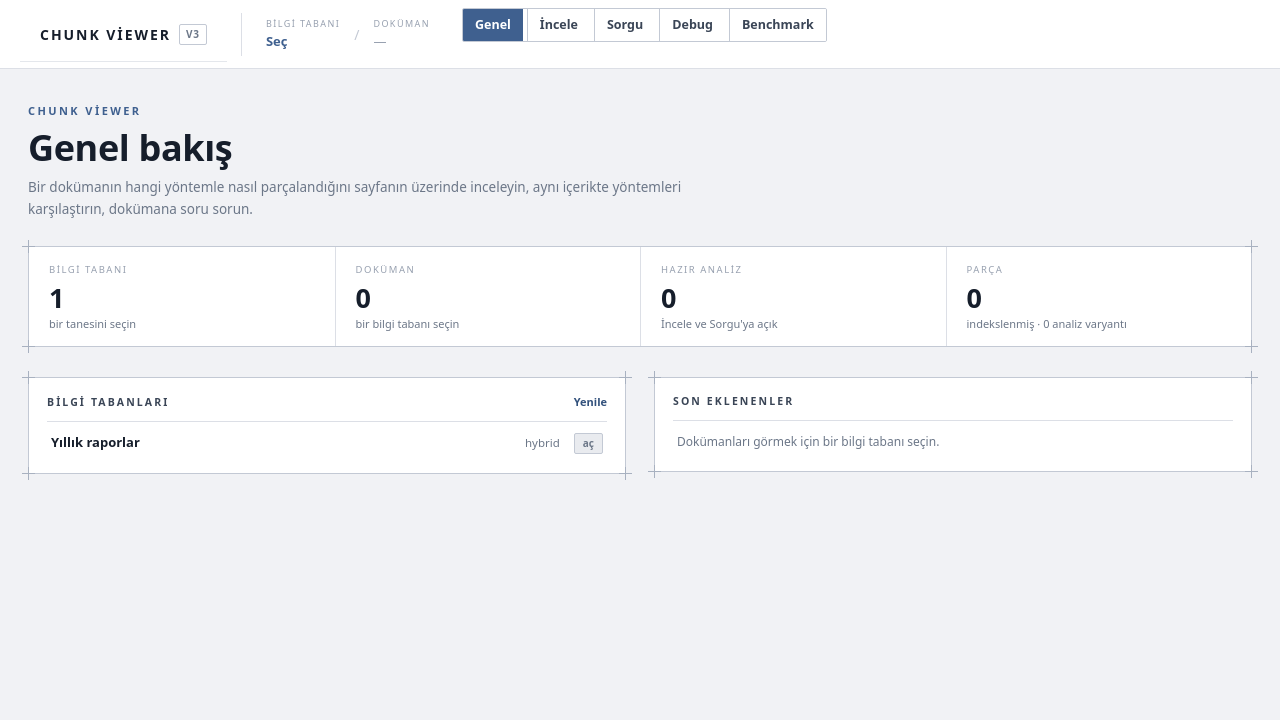
it: Viewer › puts a document with no page numbers on the board whole
Step 1. Click the tab "İncele" → [558, 25], box [527,9,590,41]
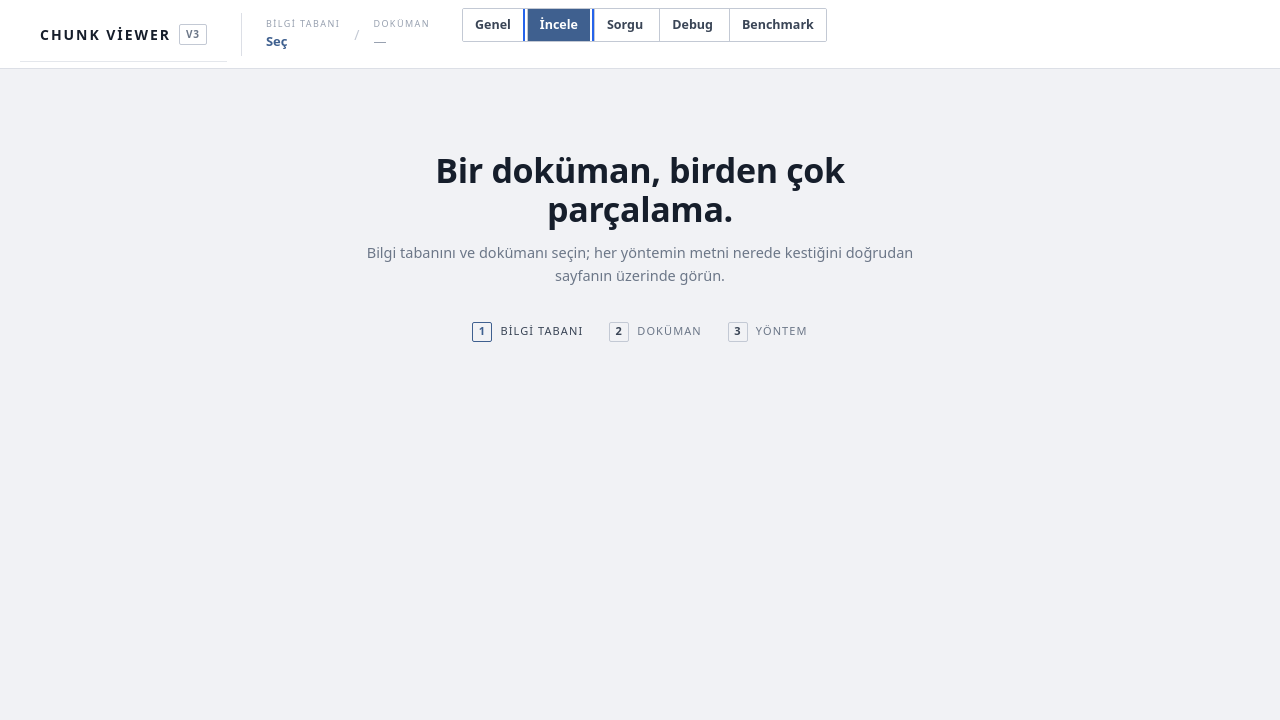
Step 2. Click the button "Bilgi tabanı Seç" → [303, 34], box [256,12,350,56]
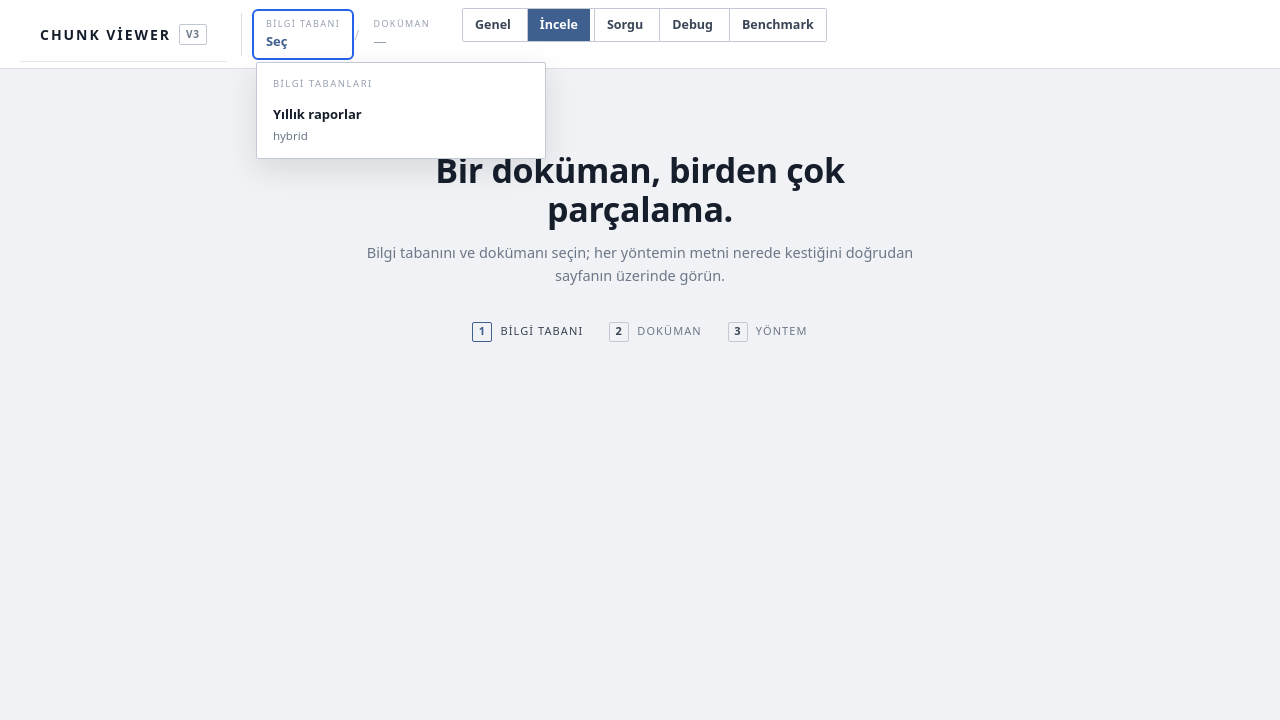
Step 3. Click the text "Yıllık raporlar" → [317, 114], box [273,105,362,123]
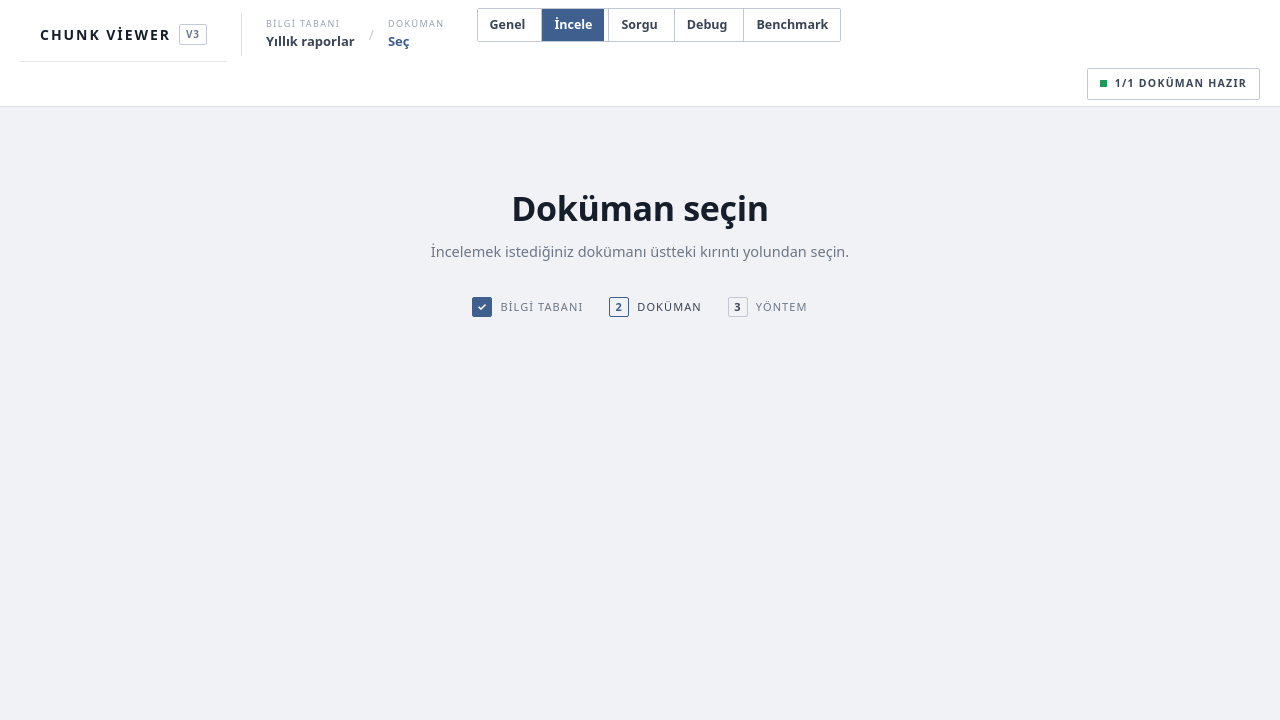
Step 4. Click the button "Doküman Seç" → [416, 34], box [378,12,454,56]
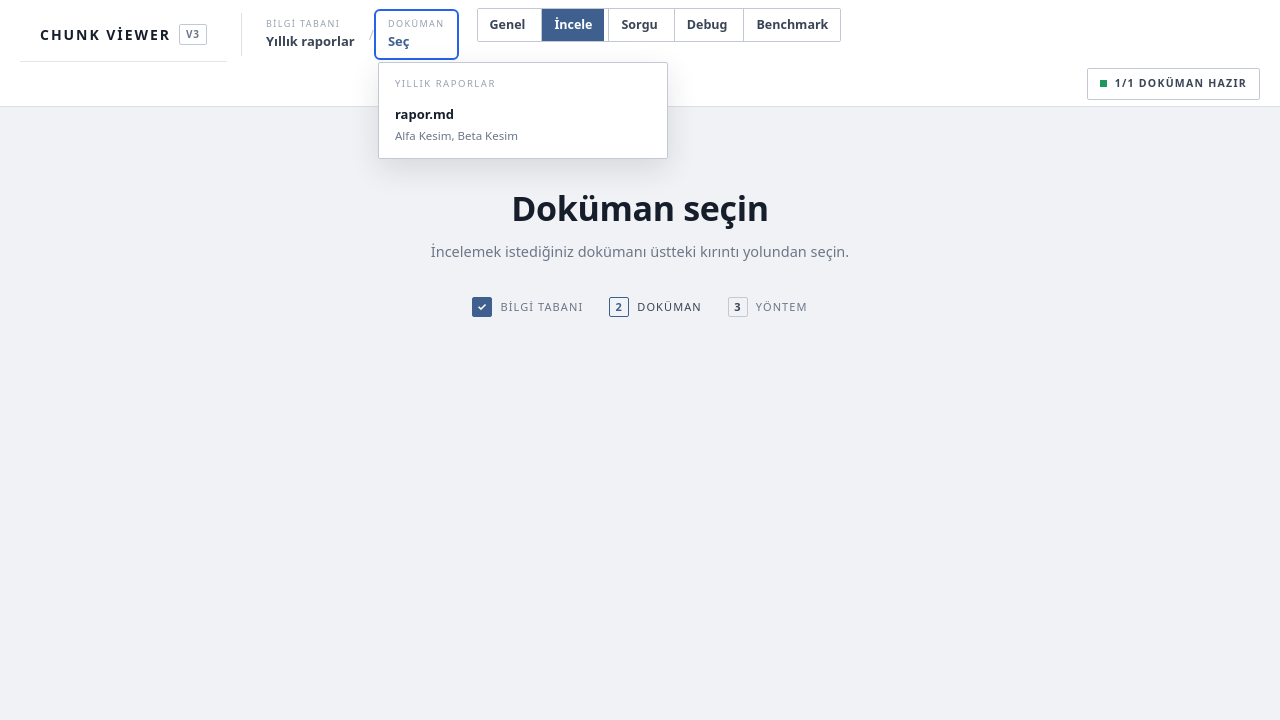
Step 5. Click the text "rapor.md" → [424, 114], box [395,105,454,123]
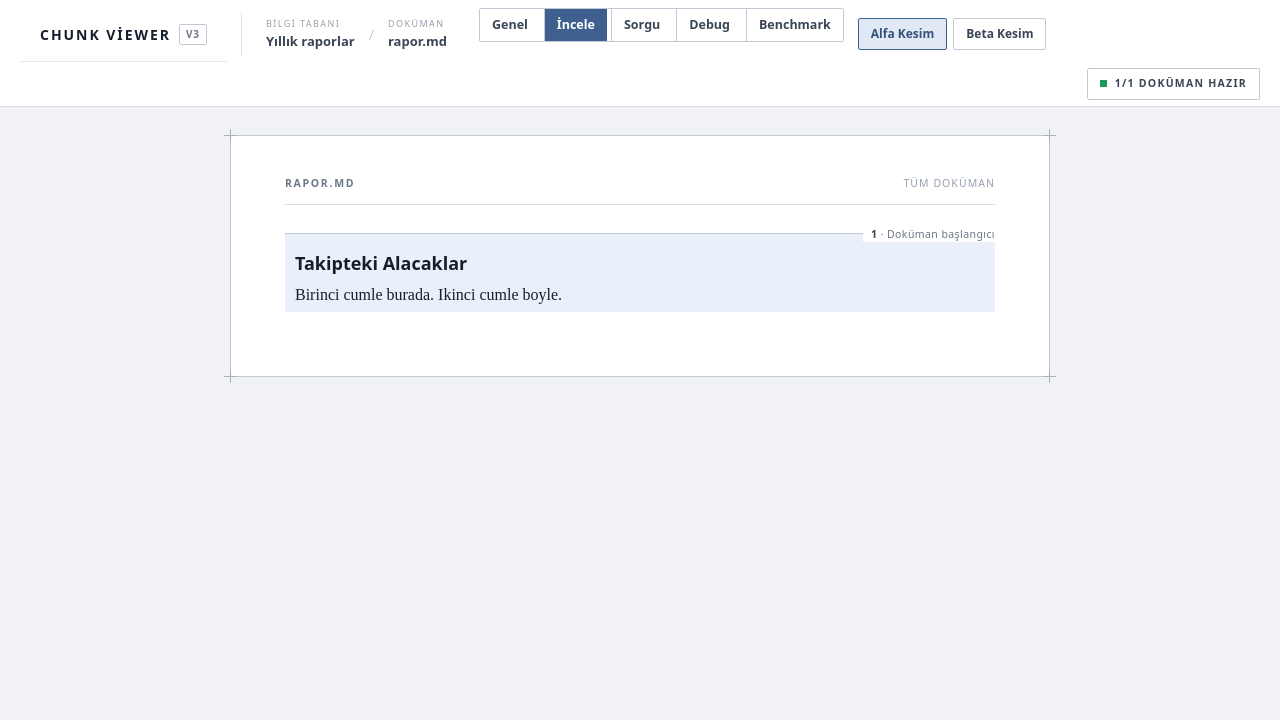
Check: the element with class "sheet" is shown, box [230,135,1050,377]
Check: the element with class "cell" that starts with "Doküman başlangıcı" is shown
Check: the text "Tüm doküman" is shown, box [903,176,995,192]
Step 6. Click the element with class "cell" that starts with "Doküman başlangıcı" → [640, 255], box [285,232,995,278]
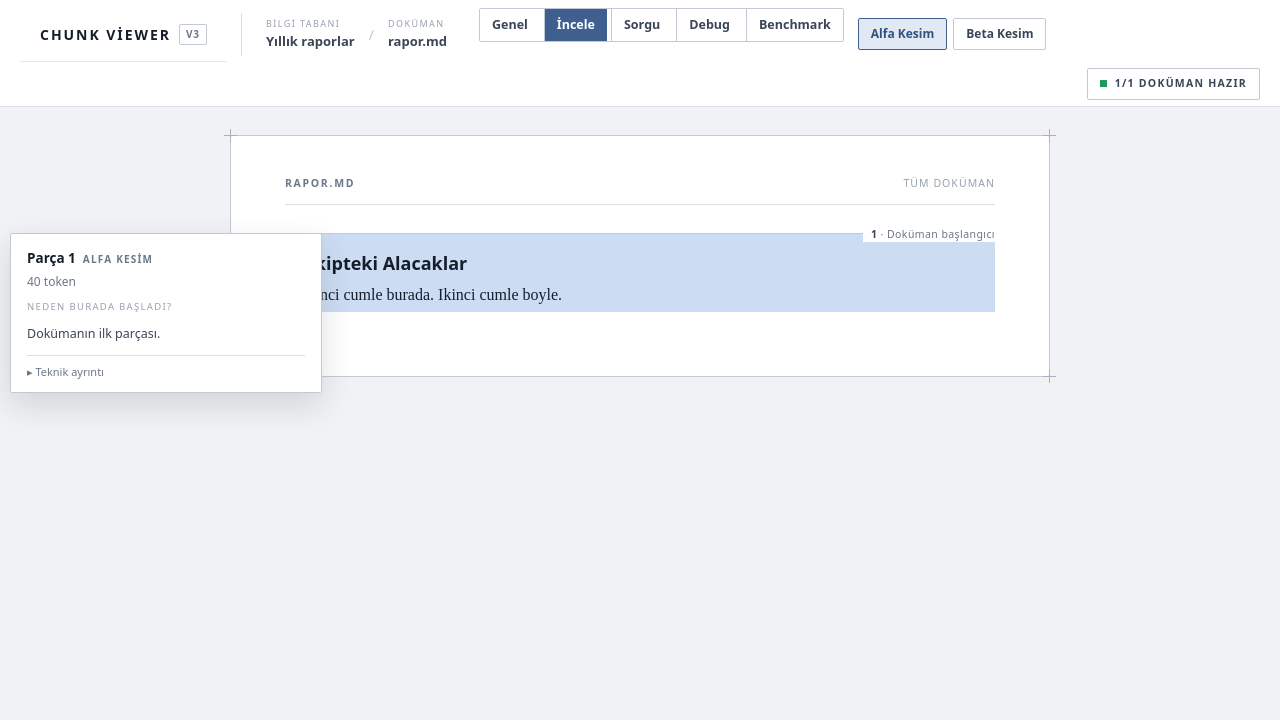
Check: the text "40 token" is shown, box [27,273,76,290]
